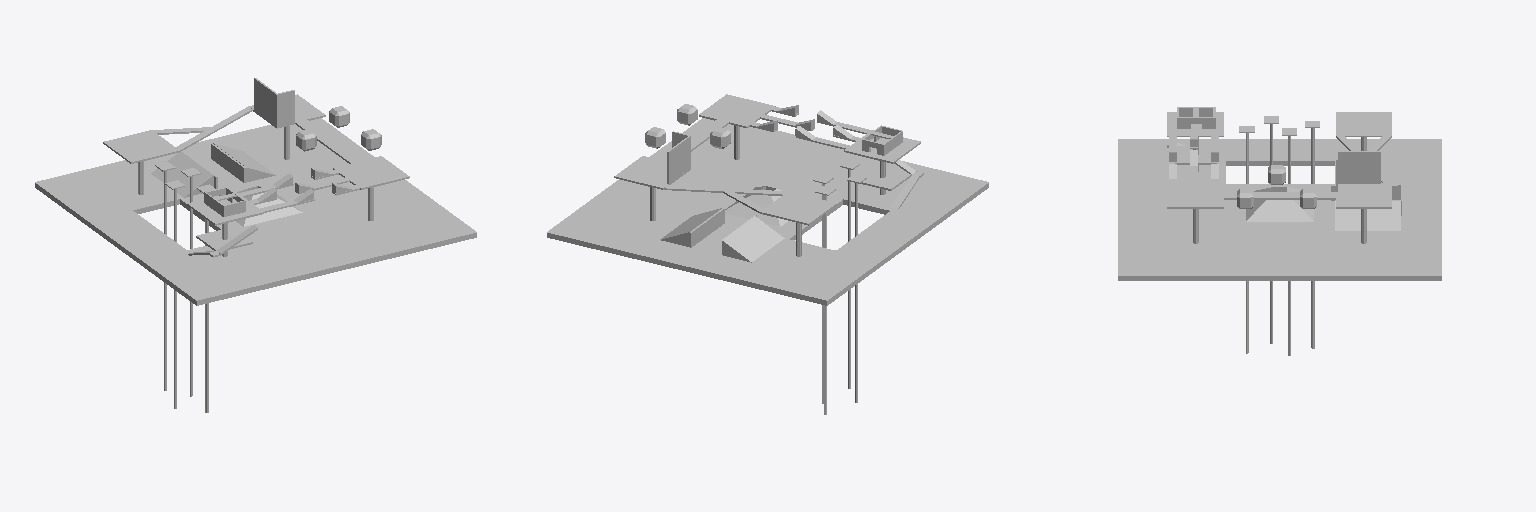
File: map1.obj
The picture shows the model from 3 angles: view 1: azimuth 30°, elevation 25°; view 2: azimuth 150°, elevation 25°; view 3: azimuth 270°, elevation 25°; orthographic projection.
Visible parts, largest first — view 1: Plane, Plane.006, Plane.001, Cube.011, Plane.009, Plane.004, Cube, Plane.003, Cube.010, Plane.024, Plane.028, Plane.002 (+2 smaller); view 2: Plane, Cube.011, Plane.006, Plane.001, Plane.002, Cube, Plane.009, Plane.004, Plane.028, Cube.010, Plane.024, Plane.007; view 3: Plane, Plane.001, Cube, Plane.004, Cube.010, Plane.002, Plane.006, Plane.009, Plane.003.
Boxes of the visible parts, box(x1,y1,x2,y2) form: Plane: box(35, 118, 476, 305); Plane.006: box(103, 130, 179, 163); Plane.001: box(333, 156, 409, 189); Cube.011: box(151, 152, 213, 197); Plane.009: box(187, 192, 263, 225); Plane.004: box(254, 78, 278, 126); Cube: box(236, 186, 302, 226); Plane.003: box(295, 120, 362, 163); Cube.010: box(213, 143, 275, 182); Plane.024: box(211, 143, 245, 182); Plane.028: box(196, 227, 252, 250); Plane.002: box(249, 94, 325, 128); Plane: box(547, 118, 988, 305); Cube.011: box(722, 216, 784, 262); Plane.006: box(760, 191, 836, 225); Plane.001: box(699, 94, 775, 127); Plane.002: box(614, 156, 690, 189); Cube: box(725, 186, 787, 226); Plane.009: box(844, 130, 920, 163); Plane.004: box(667, 135, 690, 183); Plane.028: box(860, 166, 911, 190); Cube.010: box(660, 208, 721, 246); Plane.024: box(689, 208, 724, 247); Plane.007: box(664, 185, 787, 195); Plane: box(1118, 139, 1441, 280); Plane.001: box(1167, 183, 1223, 208); Cube: box(1246, 187, 1313, 221); Plane.004: box(1336, 151, 1380, 183); Cube.010: box(1335, 201, 1400, 230); Plane.002: box(1336, 183, 1391, 208); Plane.006: box(1336, 112, 1391, 136); Plane.009: box(1167, 112, 1223, 136); Plane.003: box(1224, 192, 1335, 199).
Size of the model in its own units: 77.11 by 67.63 by 77.11.